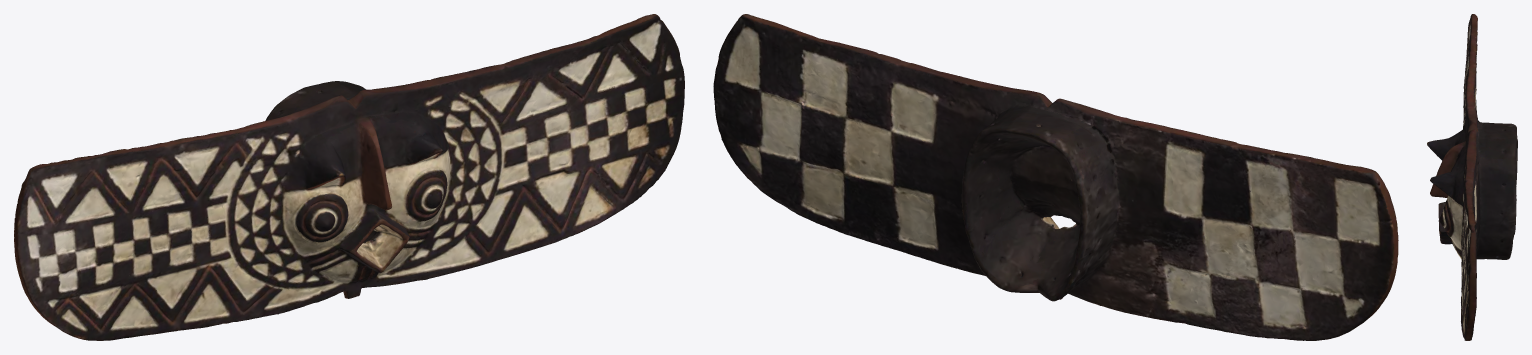
Rendered from preview.glb.
3 views of the same model, side by side, from view 1: azimuth 30°, elevation 25°; view 2: azimuth 150°, elevation 25°; view 3: azimuth 270°, elevation 25° (orthographic). The views are drawn at different scales.
Visible parts, largest first — view 1: Object_2; view 2: Object_2; view 3: Object_2.
Part boxes in pixels (bbox=[...]): Object_2: bbox=[14, 14, 684, 340]; Object_2: bbox=[713, 14, 1398, 340]; Object_2: bbox=[1427, 14, 1517, 340].
Size of the model in its own units: 953 by 281 by 159.
1 material, 1 textured.
